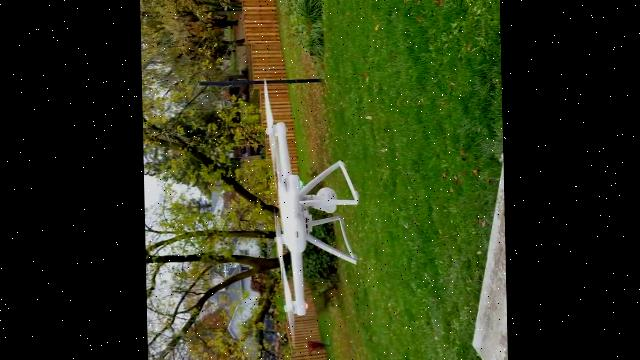drone: (257, 65, 370, 331)
